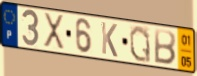3: (21, 8, 41, 50)
6: (74, 17, 94, 55)
B: (153, 27, 178, 67)
K: (100, 20, 119, 59)
Q: (128, 24, 152, 65)
X: (42, 12, 65, 53)
